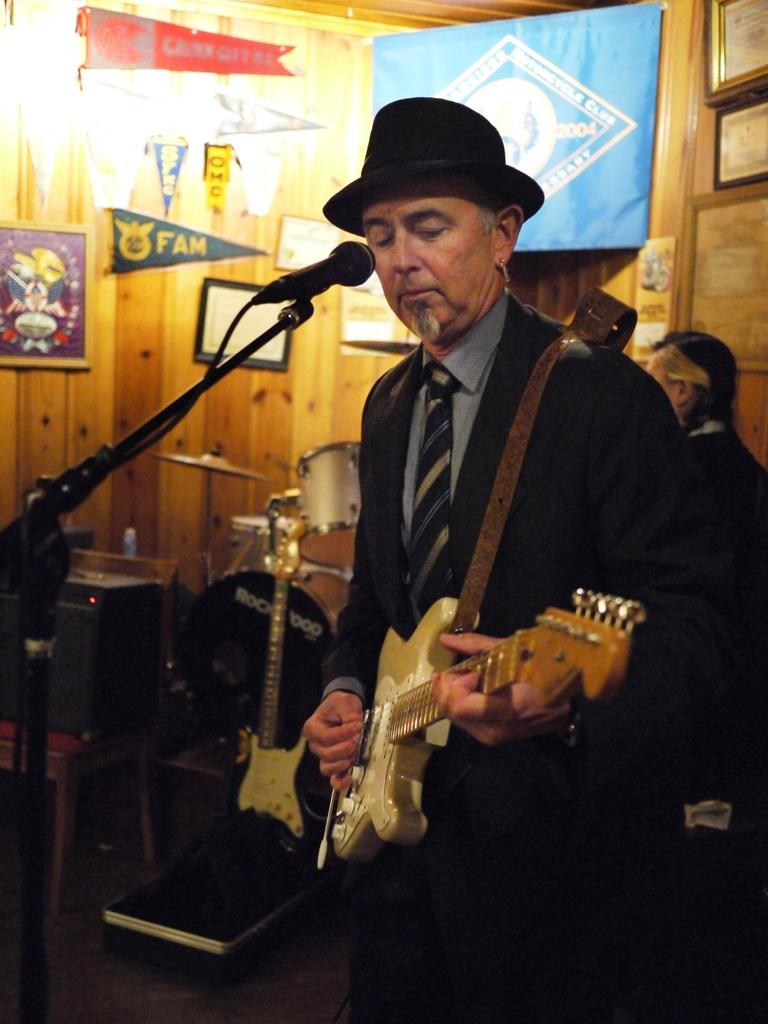Hat: (323, 96, 547, 234)
